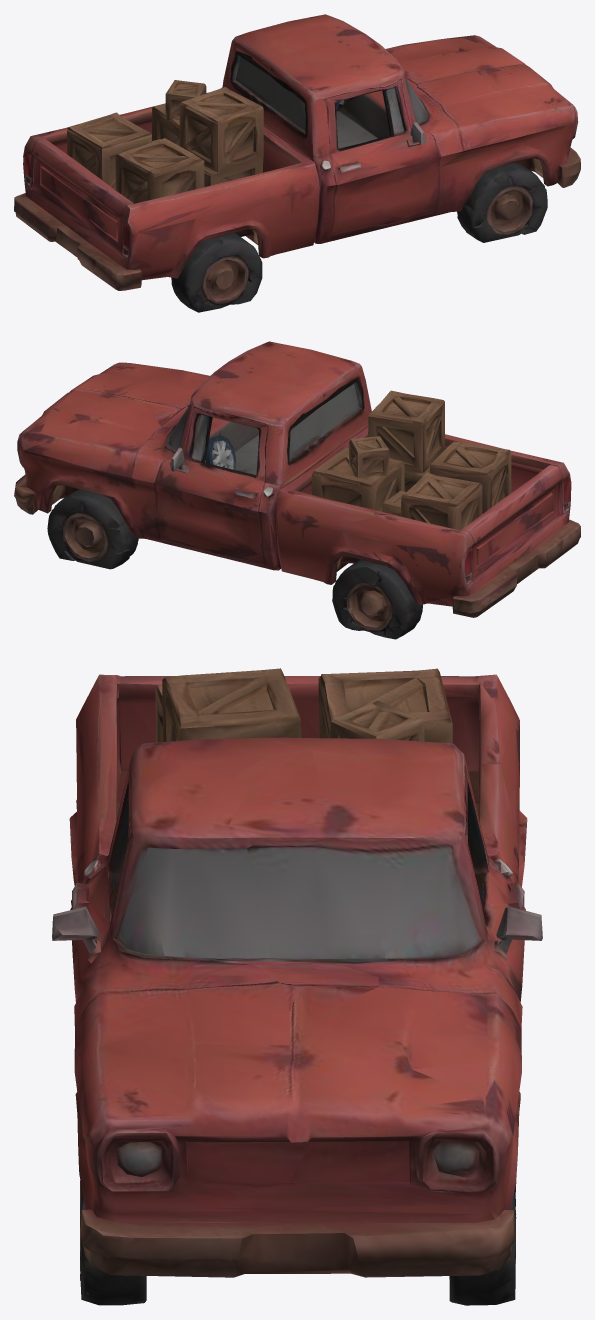
The model's file is pickup_b_idle.glb.
3 renders of one model, top to bottom at view 1: azimuth 30°, elevation 25°; view 2: azimuth 150°, elevation 25°; view 3: azimuth 270°, elevation 25°, orthographic. The views are drawn at different scales.
Parts seen in each view (by area): view 1: tripo_node_33057337-2720-48ba-ba8e-dd5126167540; view 2: tripo_node_33057337-2720-48ba-ba8e-dd5126167540; view 3: tripo_node_33057337-2720-48ba-ba8e-dd5126167540.
Boxes of the visible parts, left/top/right/bottom form: tripo_node_33057337-2720-48ba-ba8e-dd5126167540: left=14, top=14, right=580, bottom=312; tripo_node_33057337-2720-48ba-ba8e-dd5126167540: left=14, top=341, right=580, bottom=639; tripo_node_33057337-2720-48ba-ba8e-dd5126167540: left=52, top=668, right=542, bottom=1305.
Bounding box in the file's own units: 5.2 × 1.91 × 2.33.
Materials: 1 (1 with a texture image).
